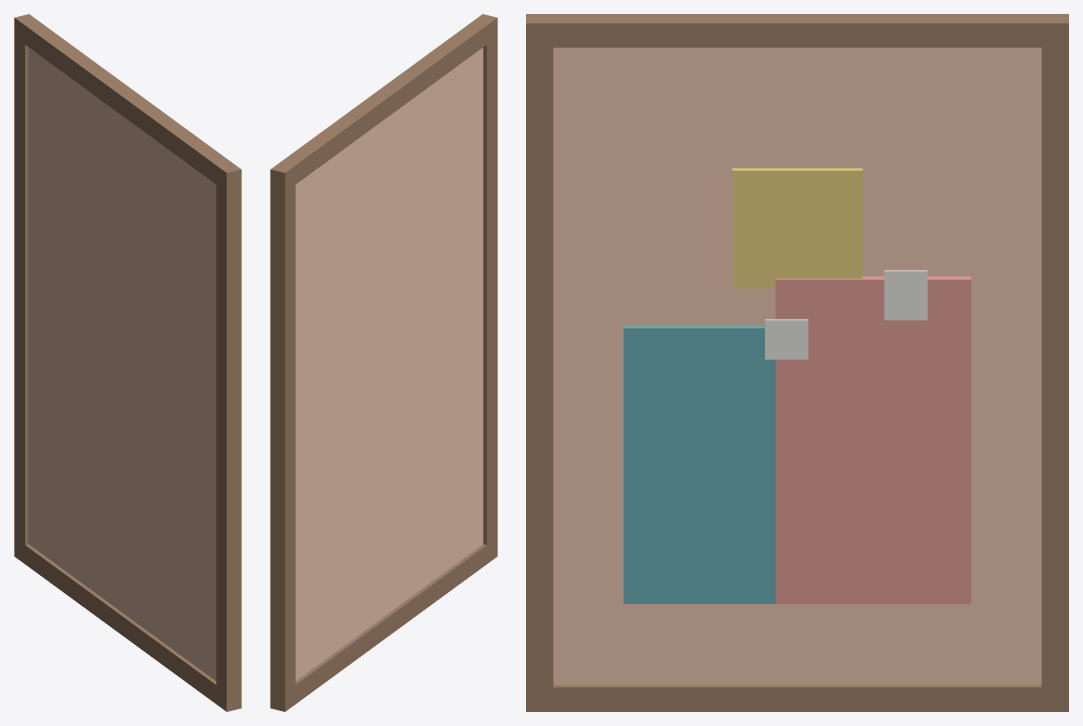
Rendered from Poster_Mountain.glb.
3 views of the same model, side by side, from view 1: azimuth 30°, elevation 25°; view 2: azimuth 150°, elevation 25°; view 3: azimuth 270°, elevation 25° (orthographic). The views are drawn at different scales.
Parts seen in each view (by area): view 1: Poster_Mountain; view 2: Poster_Mountain; view 3: Poster_Mountain.
Part boxes in pixels (x1=…): Poster_Mountain: x1=14, y1=14, x2=241, y2=711; Poster_Mountain: x1=270, y1=14, x2=497, y2=711; Poster_Mountain: x1=526, y1=14, x2=1068, y2=711.
Size of the model in its own units: 0.0244 by 0.7 by 0.5.
